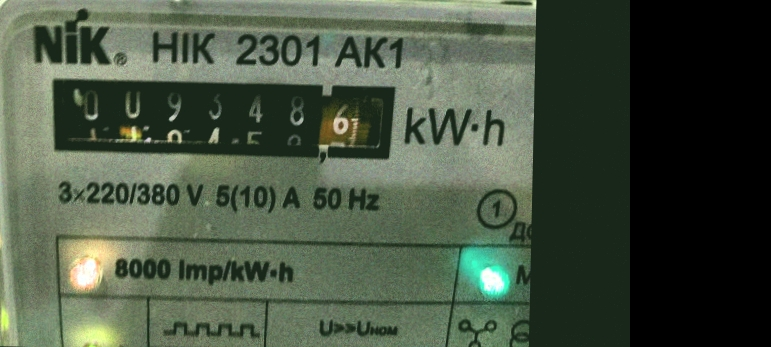0: (121, 85, 143, 122), (80, 86, 101, 122)
3: (203, 88, 226, 120)
4: (243, 89, 265, 126)
6: (330, 101, 352, 135)
8: (286, 92, 307, 126)
9: (164, 87, 183, 122)
screen: (27, 63, 414, 174)
